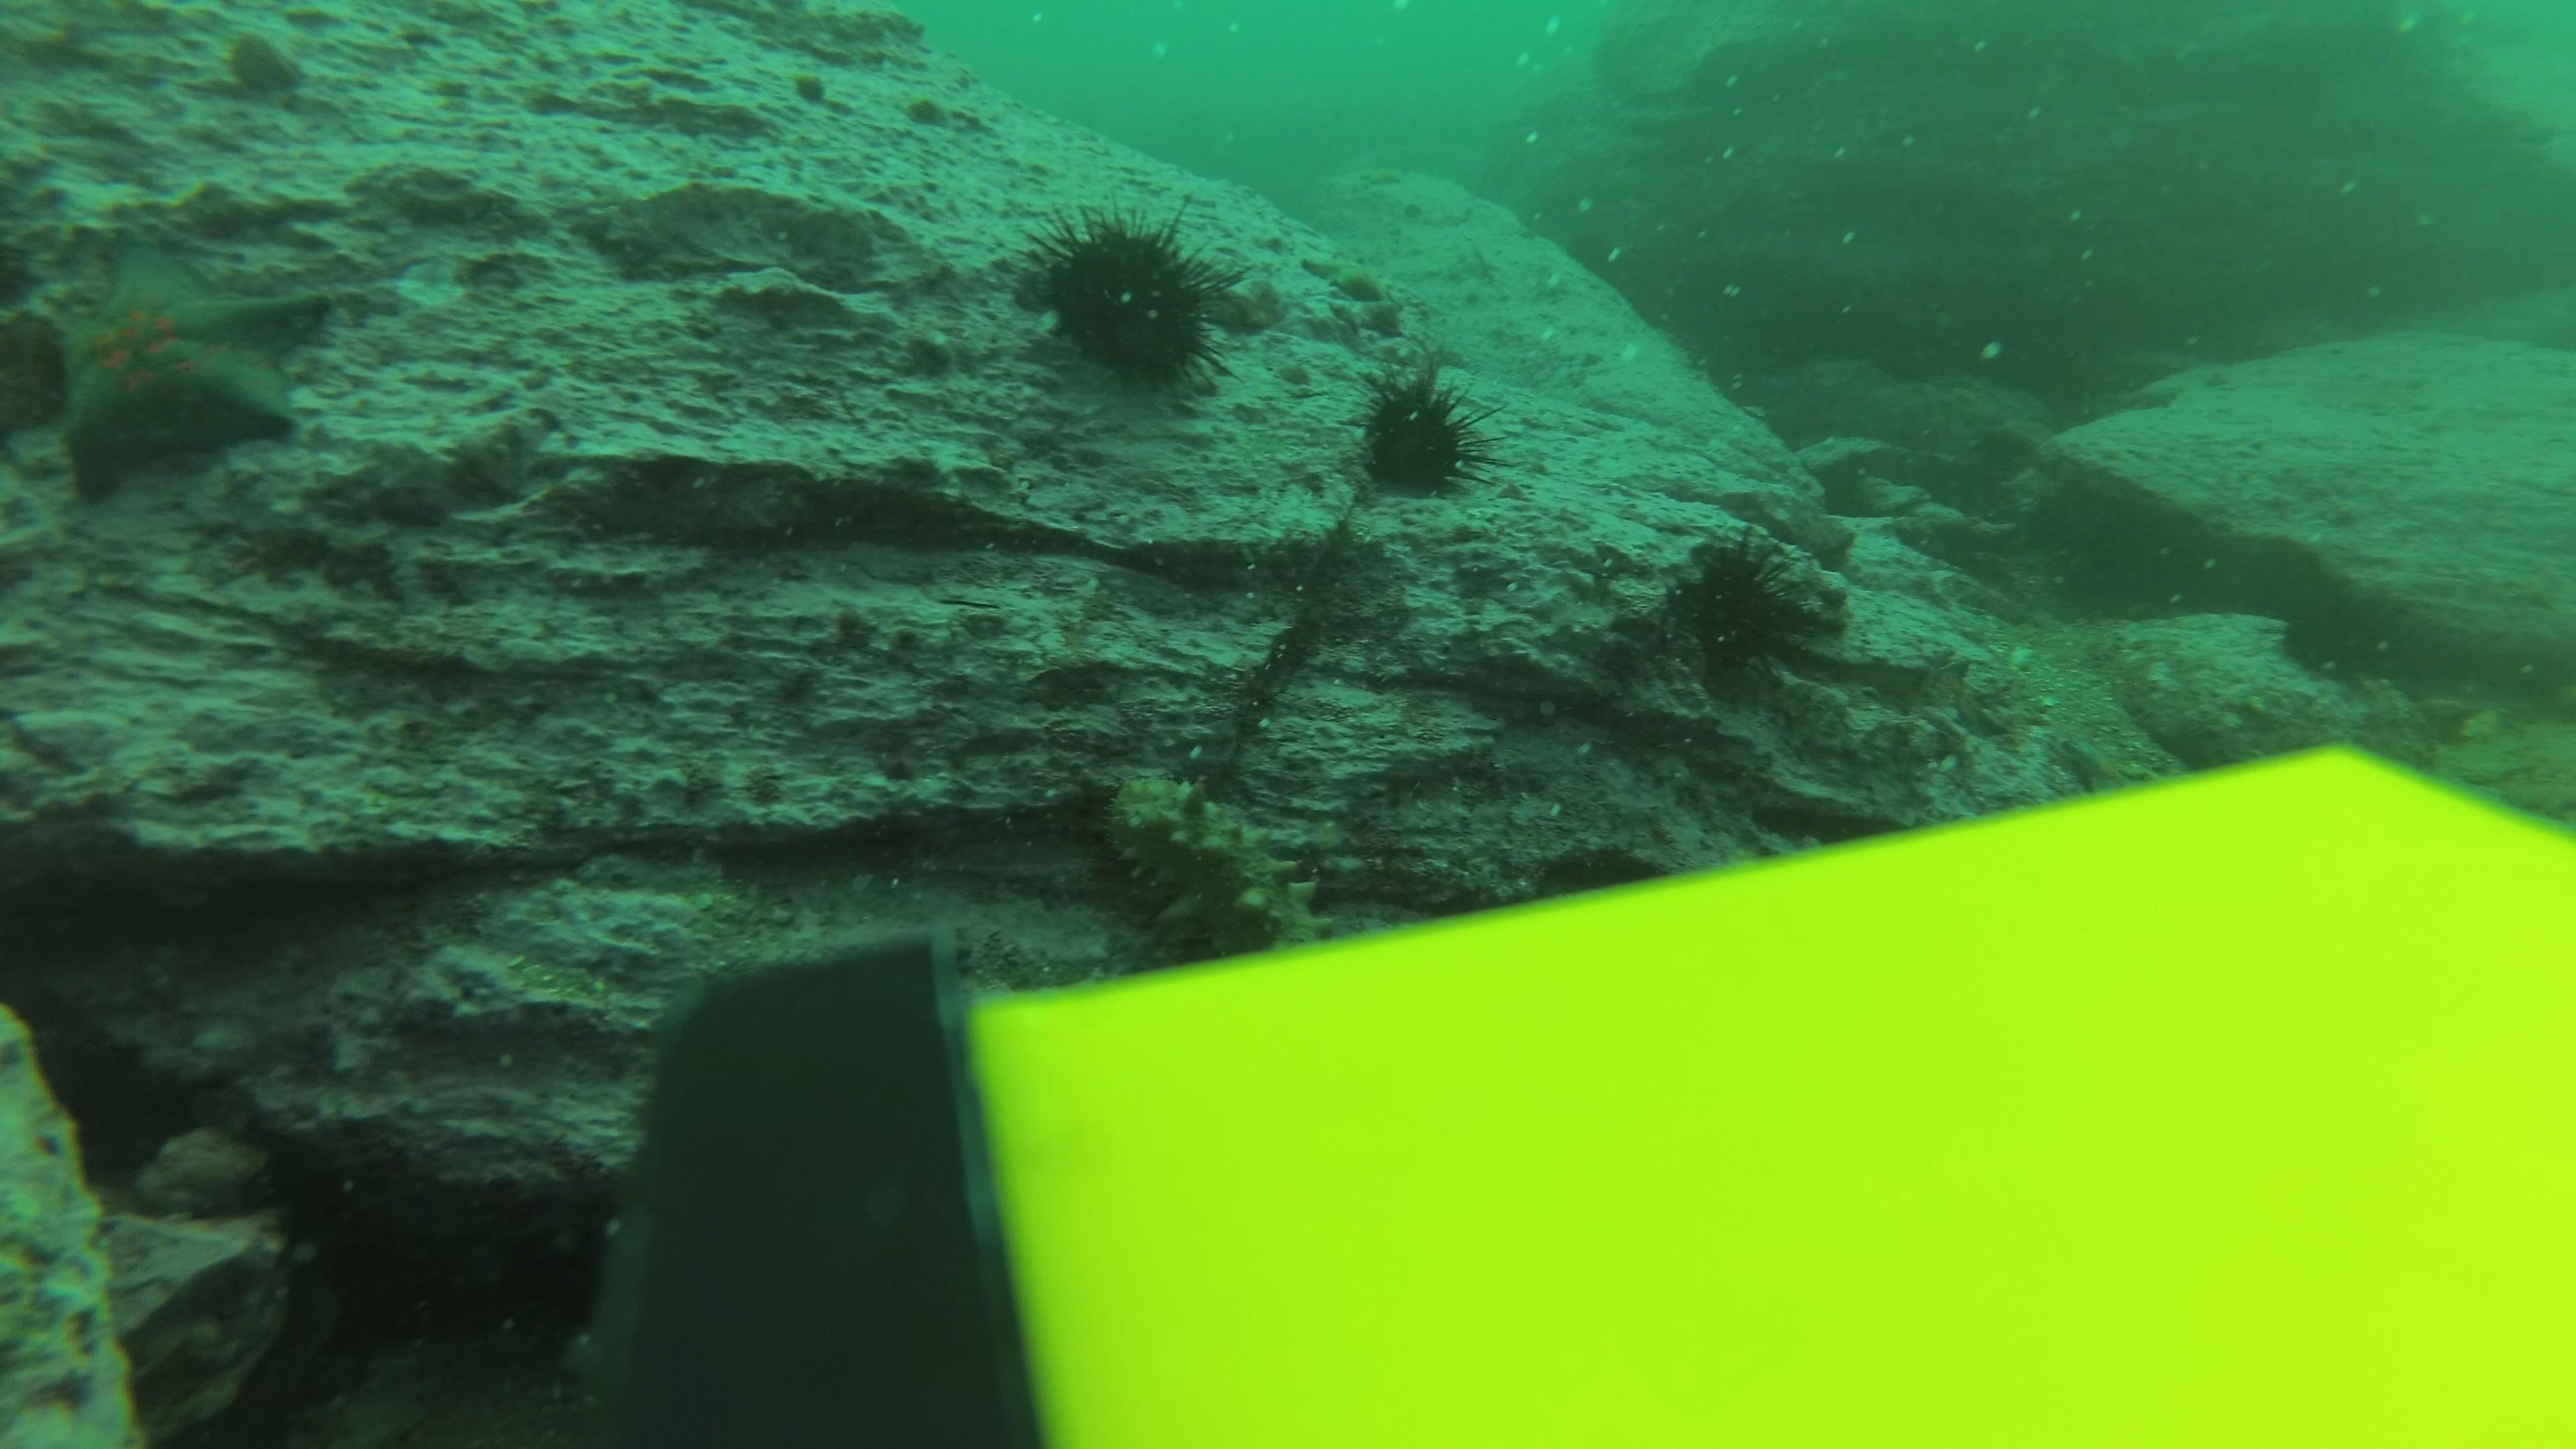echinus: (1014, 200, 1244, 403), (1660, 525, 1838, 704), (1345, 361, 1497, 506)
holothurian: (1088, 757, 1339, 957)
starfish: (19, 225, 343, 506), (1297, 246, 1399, 308)
